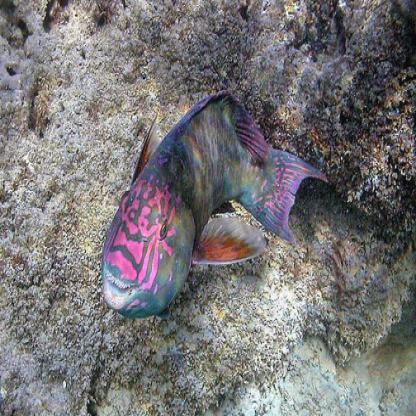parrot: (93, 84, 348, 340)
